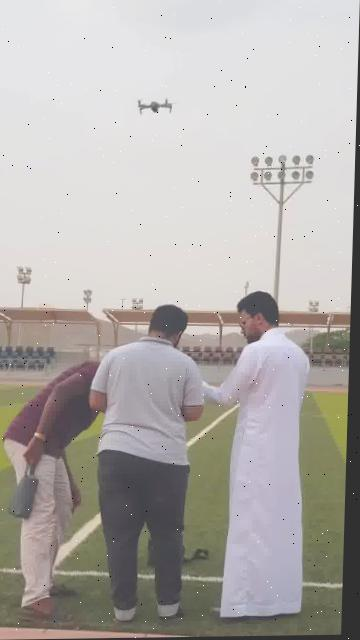drone: (133, 93, 178, 117)
